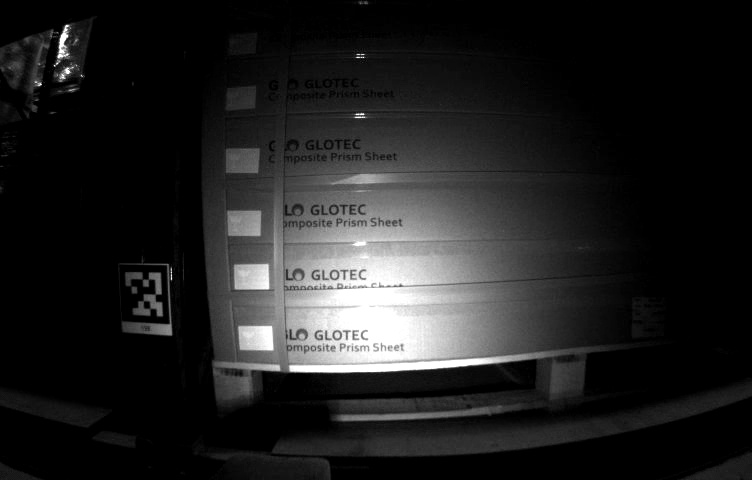True Barcode: (630, 295, 670, 337)
